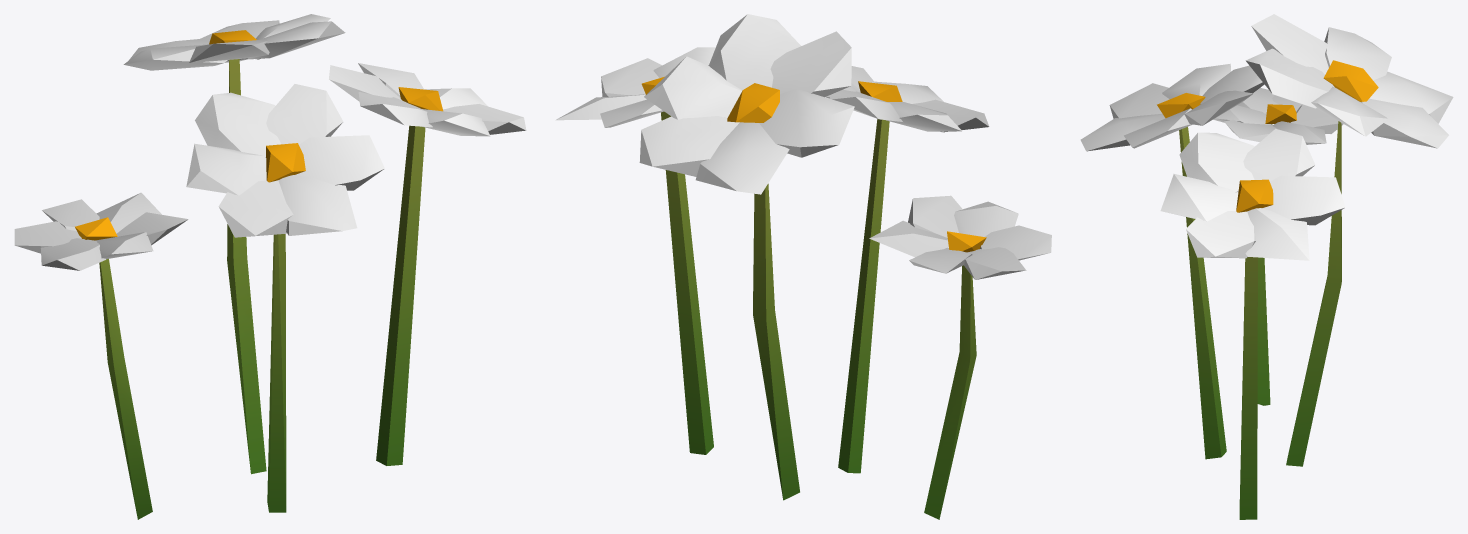
File: Flower_08.fbx
The picture shows the model from 3 angles, left to right: view 1: azimuth 30°, elevation 25°; view 2: azimuth 150°, elevation 25°; view 3: azimuth 270°, elevation 25°; orthographic projection. The views are drawn at different scales.
Visible parts, largest first — view 1: Flower_08; view 2: Flower_08; view 3: Flower_08.
Part boxes in pixels (<box>): Flower_08: <box>14,14,526,519</box>; Flower_08: <box>555,14,1051,519</box>; Flower_08: <box>1080,14,1453,519</box>.
Bounding box in the file's own units: 31.58 × 29.38 × 23.08.
